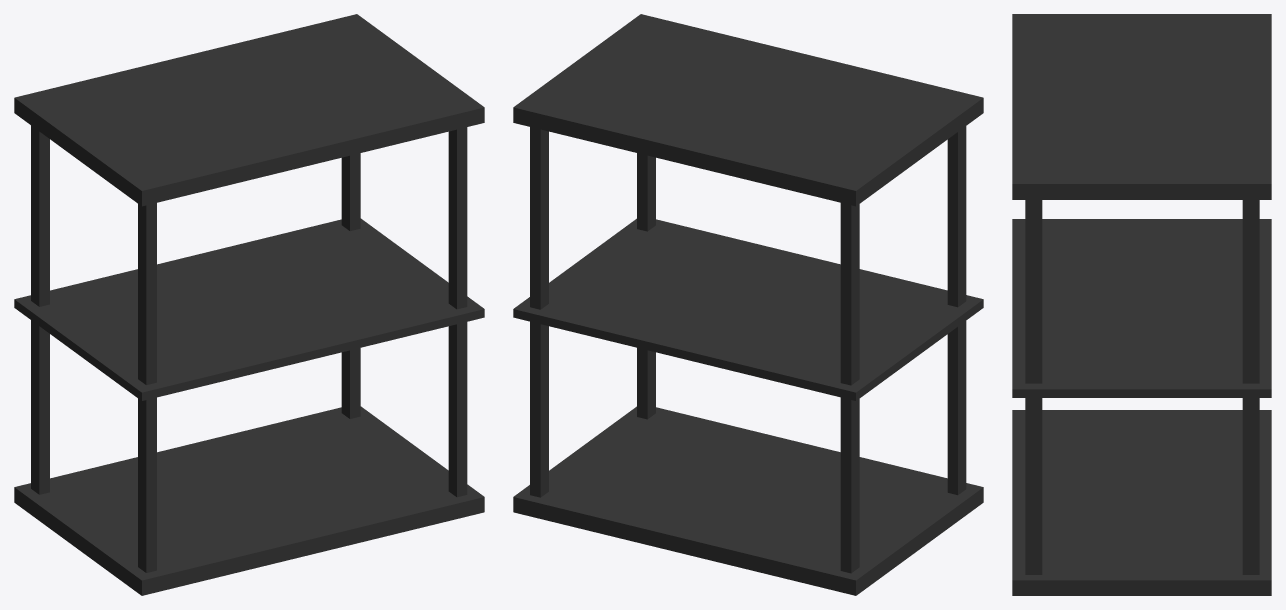
Rendered from Expositor_1x1_A.obj.
3 views of the same model, side by side, from view 1: azimuth 30°, elevation 25°; view 2: azimuth 150°, elevation 25°; view 3: azimuth 270°, elevation 25° (orthographic).
Parts seen in each view (by area): view 1: Expositor_1x1_A; view 2: Expositor_1x1_A; view 3: Expositor_1x1_A.
Boxes of the visible parts, x1,y1,x2,y2 form: Expositor_1x1_A: [14, 14, 484, 595]; Expositor_1x1_A: [513, 14, 983, 595]; Expositor_1x1_A: [1012, 14, 1271, 595].
Size of the model in its own units: 0.7374 by 0.8324 by 0.4754.
